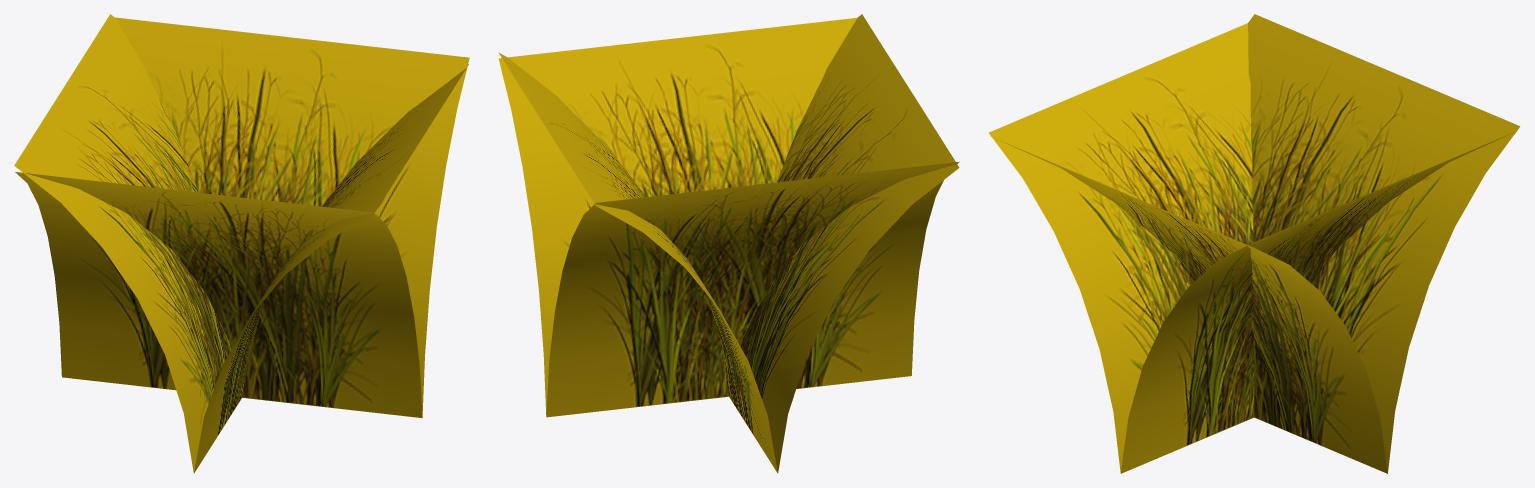
The model's file is sb_obj_nature002_Grass02a.fbx.
3 renders of one model, left to right at view 1: azimuth 30°, elevation 25°; view 2: azimuth 150°, elevation 25°; view 3: azimuth 270°, elevation 25°, orthographic.
Visible parts, largest first — view 1: sb_obj_nature002_Grass02a; view 2: sb_obj_nature002_Grass02a; view 3: sb_obj_nature002_Grass02a.
Part boxes in pixels (left/top/right/bottom): sb_obj_nature002_Grass02a: left=14, top=14, right=469, bottom=473; sb_obj_nature002_Grass02a: left=498, top=14, right=959, bottom=473; sb_obj_nature002_Grass02a: left=989, top=14, right=1520, bottom=473.
Size of the model in its own units: 2.83 by 1.71 by 2.83.
